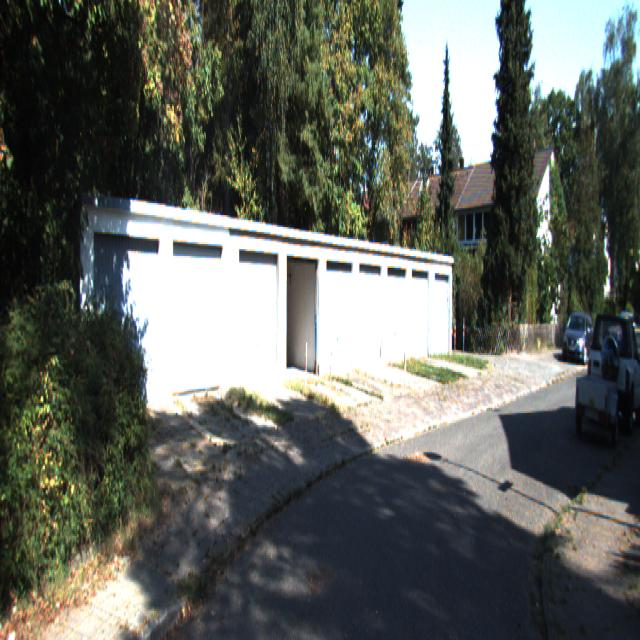Car: (587, 301, 639, 424), (562, 306, 595, 361)
Misc: (575, 366, 619, 438)
